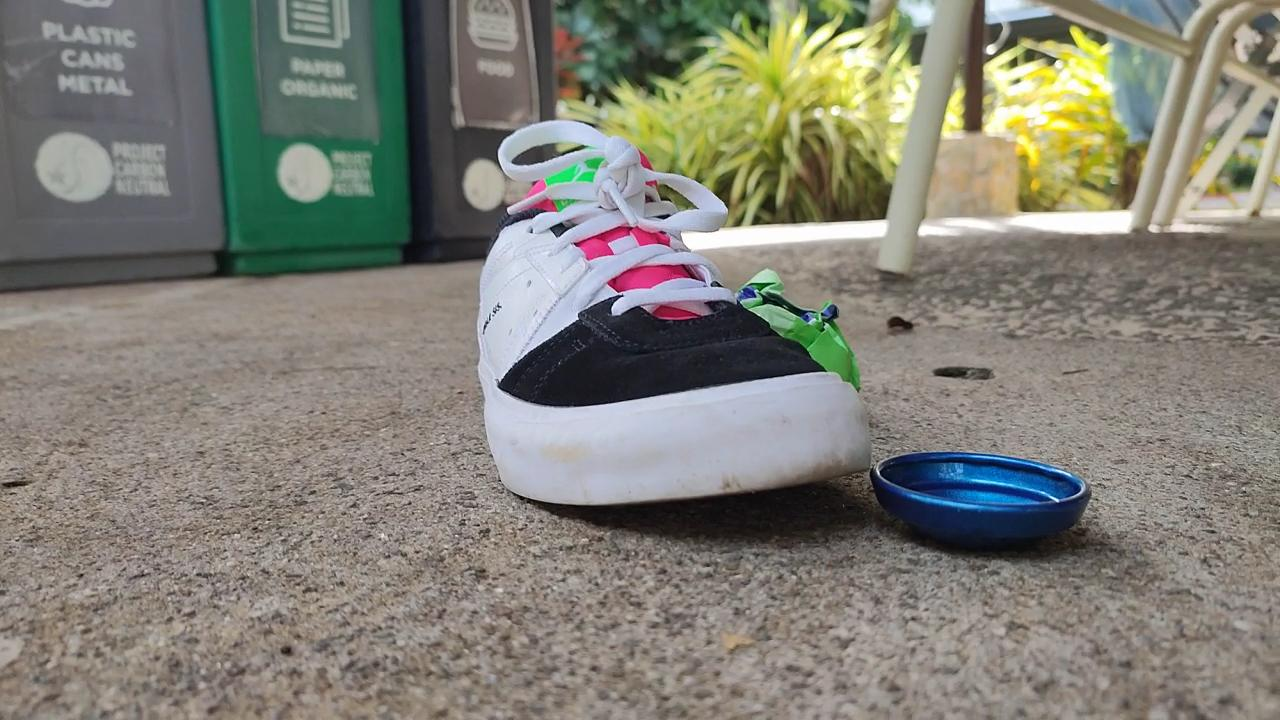Paper: (729, 251, 866, 401)
